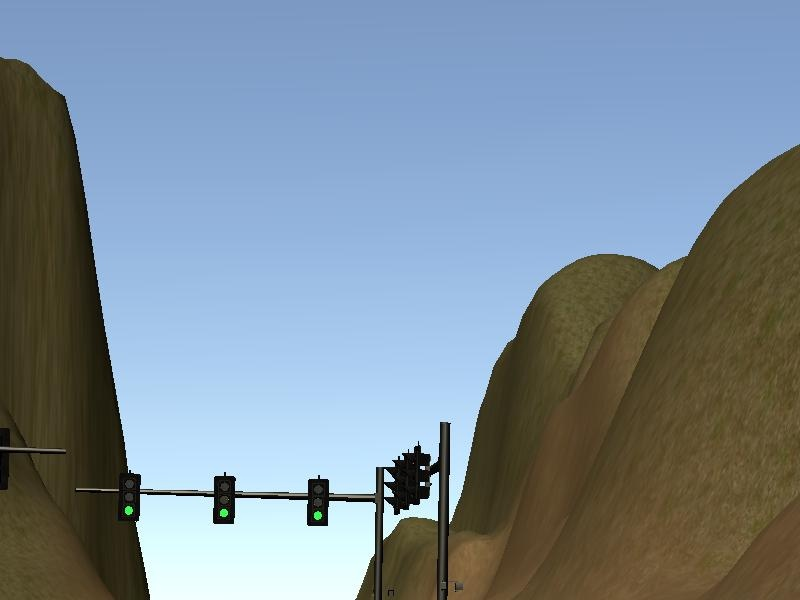green: (119, 474, 142, 520), (213, 475, 235, 523), (307, 478, 328, 528)
